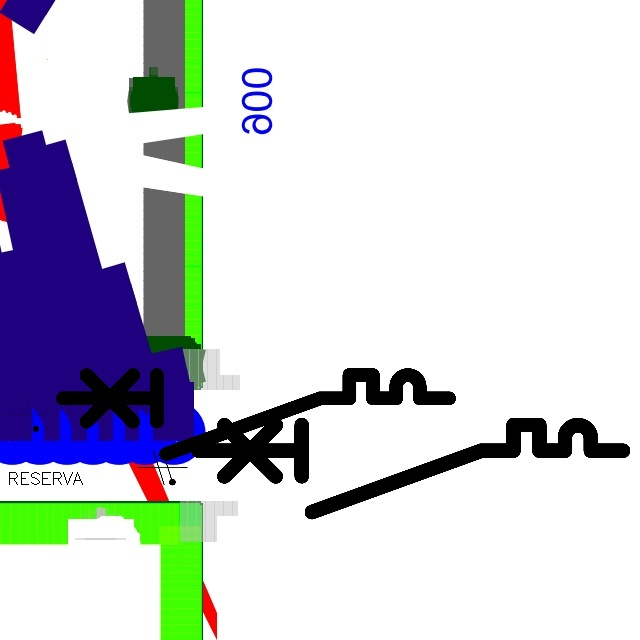interruptor_termomagnetico: (187, 414, 633, 523), (52, 365, 458, 464)
